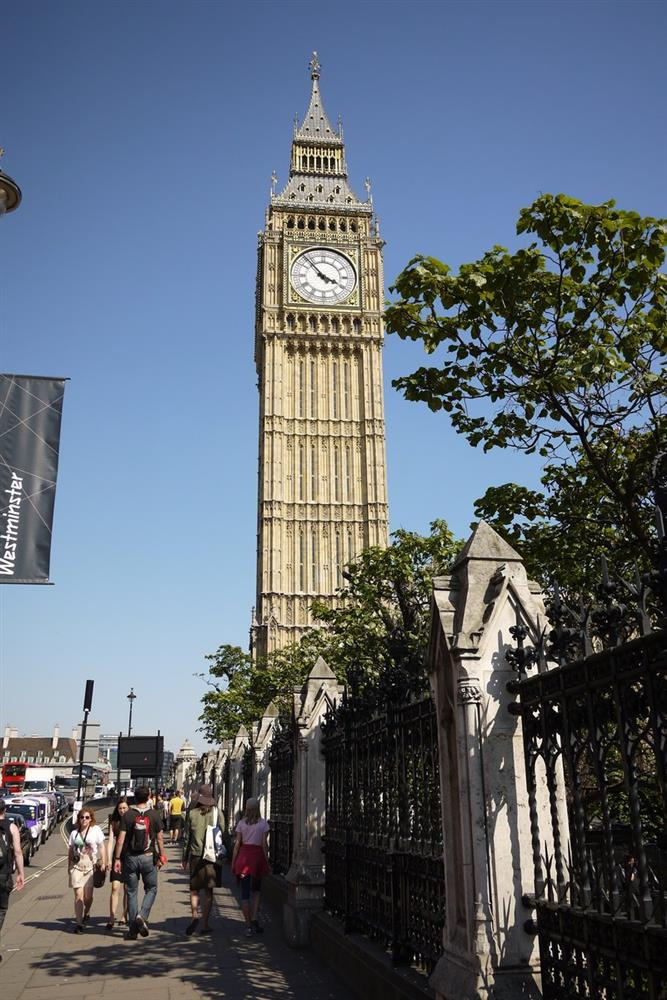Elizabeth_Tower: (240, 40, 393, 623)
